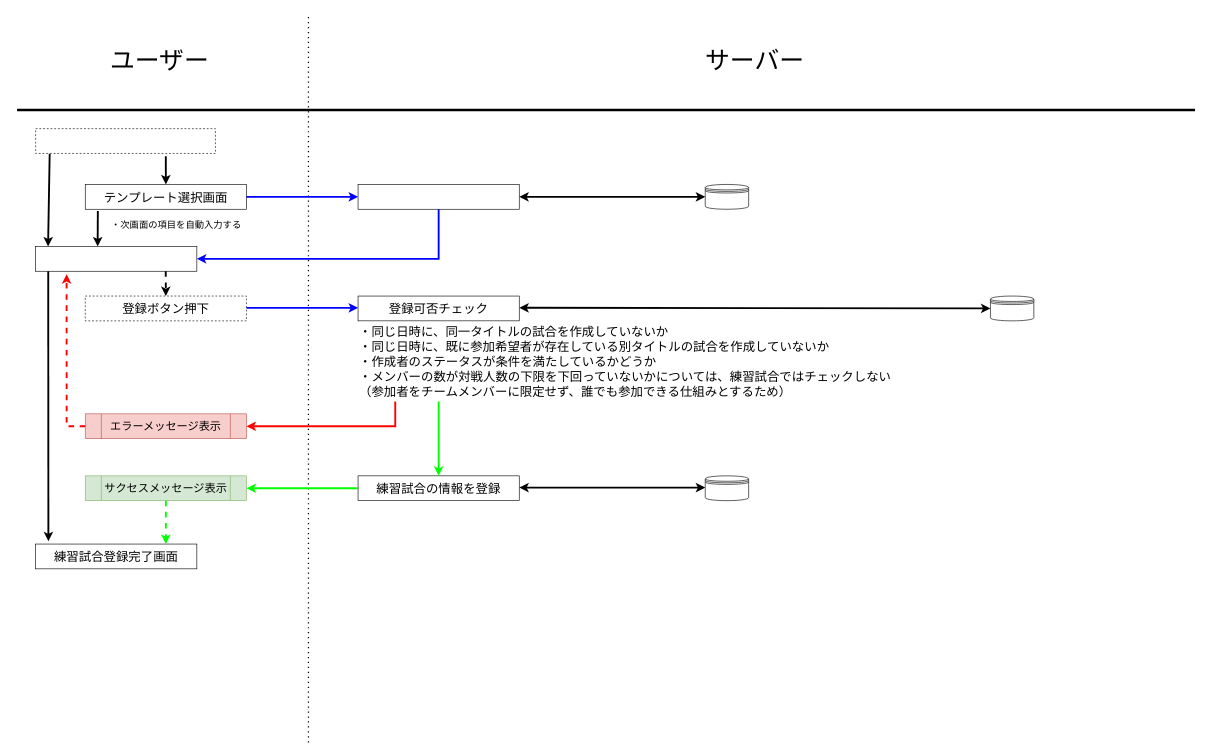
Image size: 1211x754. Some labels were removed from this diagram. The shapes that lost their labels are listed below. From the top down, each one's centre as x and y in pixels, then its label:
point 125,140: 練習試合新規作成ボタン押下
point 438,196: テンプレート一覧を取得
point 116,258: 練習試合詳細入力画面
